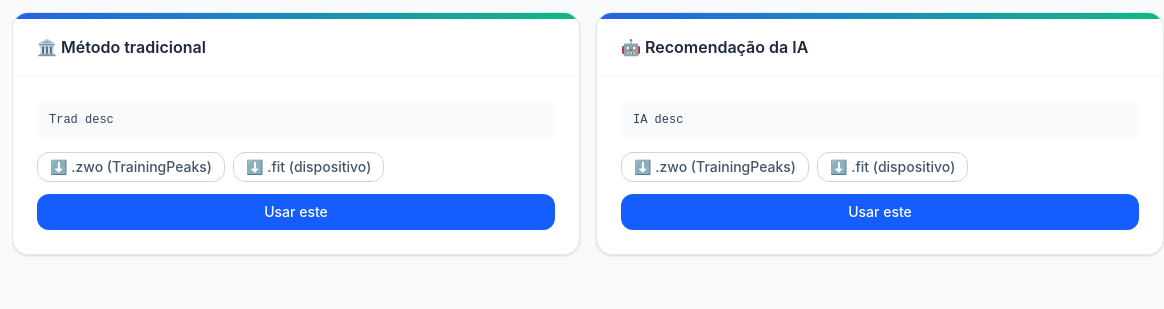
ComparativeWorkouts › mostra erro e não marca escolhido quando a API falha
Click the button "Usar este" below "Trad desc". click: (296, 212)
box: [37,194,555,230]
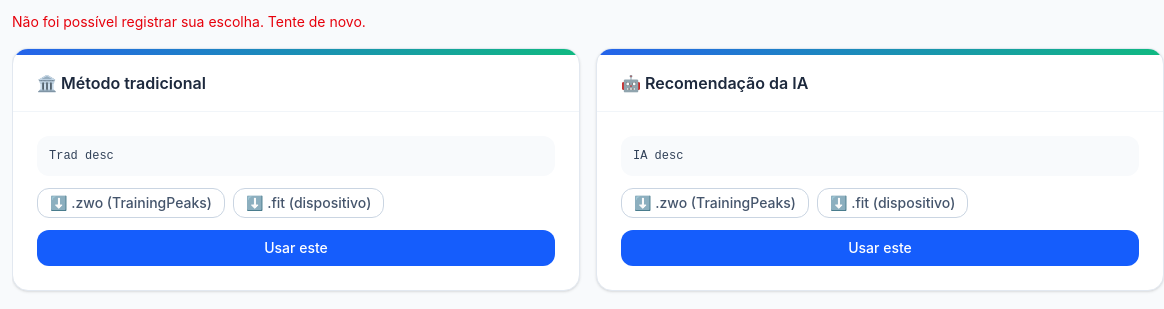
Now the text "Não foi possível registrar sua escolha. Tente de novo." is shown, box [12,13,366,30]
